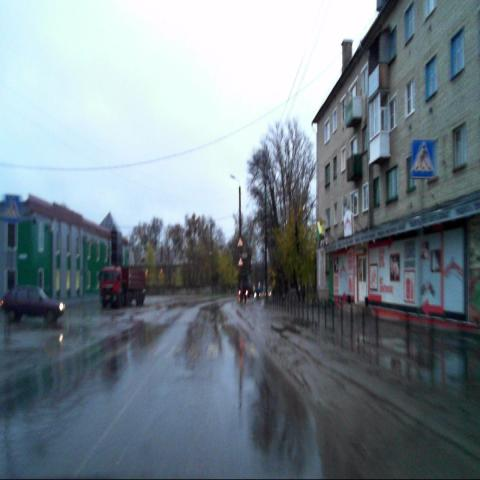5_19_1: (411, 139, 435, 180)
